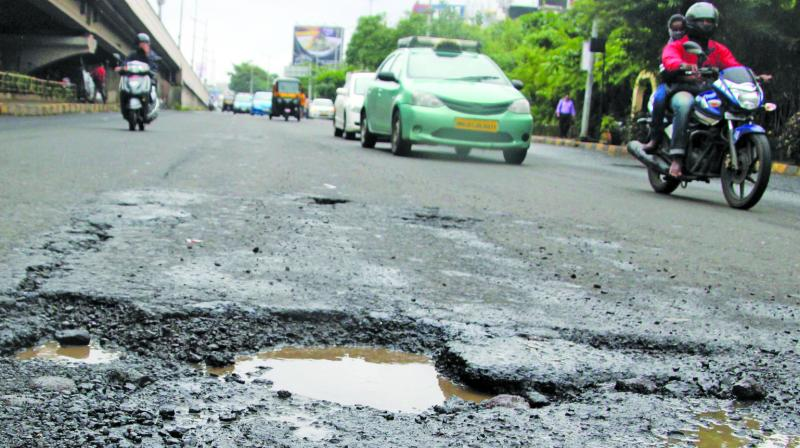pothole: (210, 326, 564, 409), (9, 313, 133, 377), (683, 380, 786, 447)
